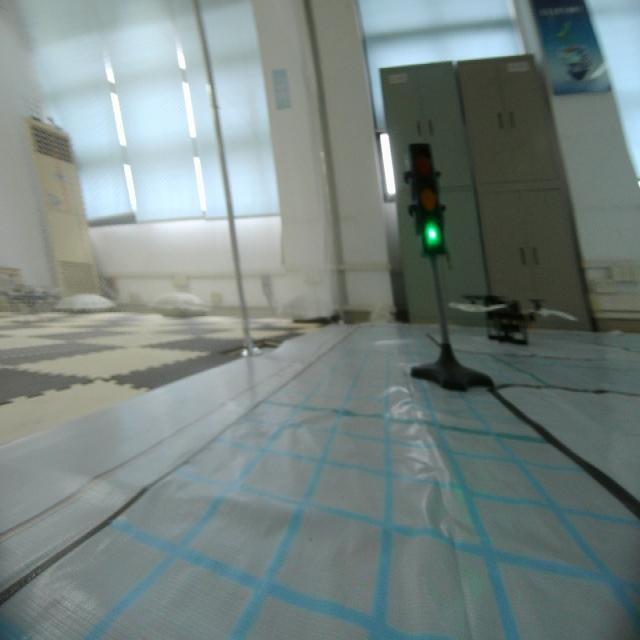green: (404, 140, 450, 263)
